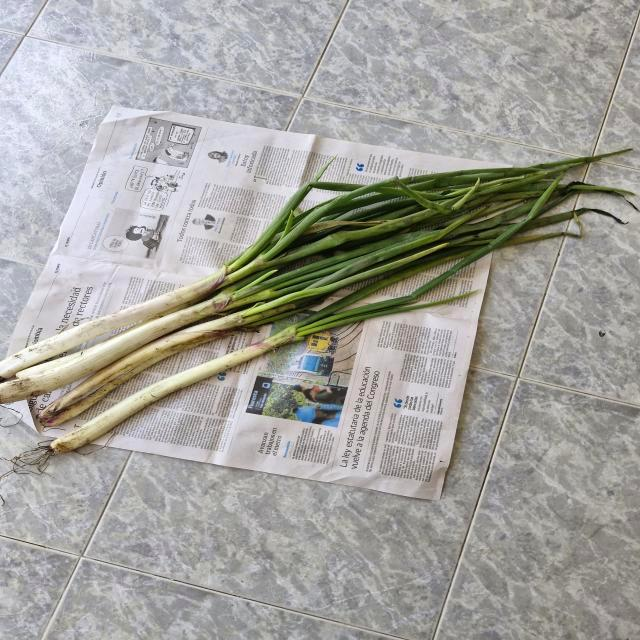green_onion: (3, 149, 533, 426), (32, 254, 444, 469)
